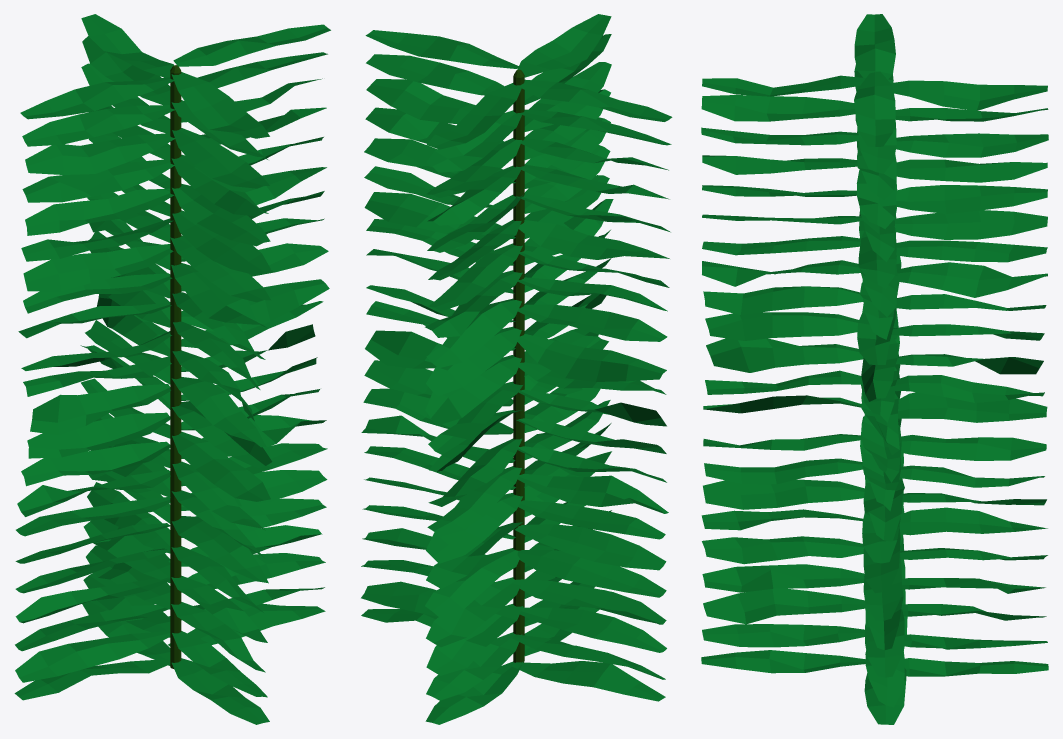
Rendered from alga.fbx.
3 renders of one model, left to right at view 1: azimuth 30°, elevation 25°; view 2: azimuth 150°, elevation 25°; view 3: azimuth 270°, elevation 25°, orthographic.
Parts seen in each view (by area): view 1: Plane.003, Plane, Plane.001, Plane.002, Cylinder; view 2: Plane.003, Plane.002, Plane.001, Plane, Cylinder; view 3: Plane, Plane.002, Plane.001, Plane.003.
Boxes of the visible parts, x1,y1,x2,y2 form: Plane.003: (14, 77, 174, 700); Plane: (170, 72, 272, 724); Plane.001: (168, 24, 330, 646); Plane.002: (80, 14, 173, 666); Cylinder: (170, 65, 181, 668); Plane.003: (511, 79, 672, 701); Plane.002: (425, 83, 523, 724); Plane.001: (361, 30, 521, 626); Plane: (517, 14, 613, 656); Cylinder: (513, 69, 524, 662); Plane: (701, 75, 865, 673); Plane.002: (890, 80, 1048, 676); Plane.001: (854, 71, 906, 724); Plane.003: (854, 14, 907, 650).
Size of the model in its own units: 1086 by 2106 by 1086.
